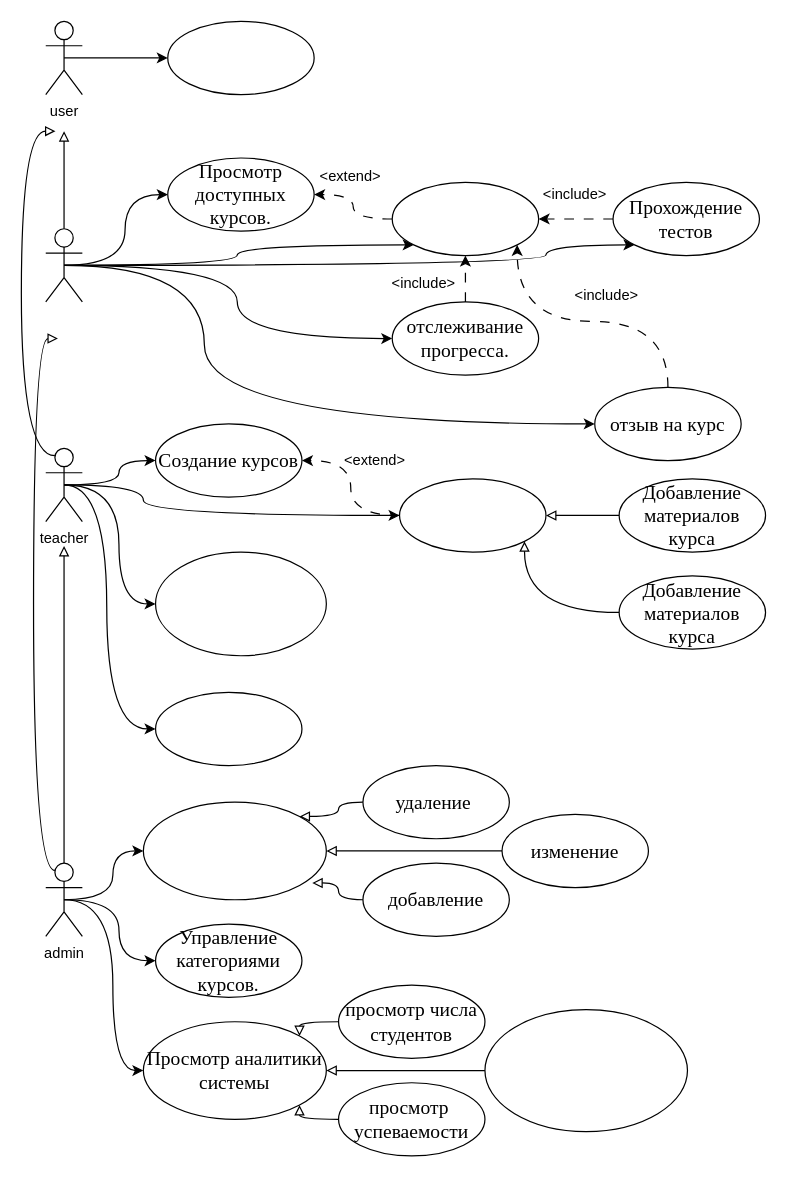
Image size: 787x1177. Some labels were removed from this diagram. The shapes that lost their labels are listed below. From the top down, each one's centre as x and y in pixels, then its label:
At point 240,57: "Регистрация и авторизация.".
At point 465,218: "Запись на курс.".
At point 63,265: "student".
At point 472,515: "редактирование курсов".
At point 240,603: "Просмотр статистики успеваемости студентов.".
At point 228,728: "Модерация отзывов.".
At point 234,850: "Управление учетными записями пользователей.".
At point 585,1070: "просмотр популярности курсов".
